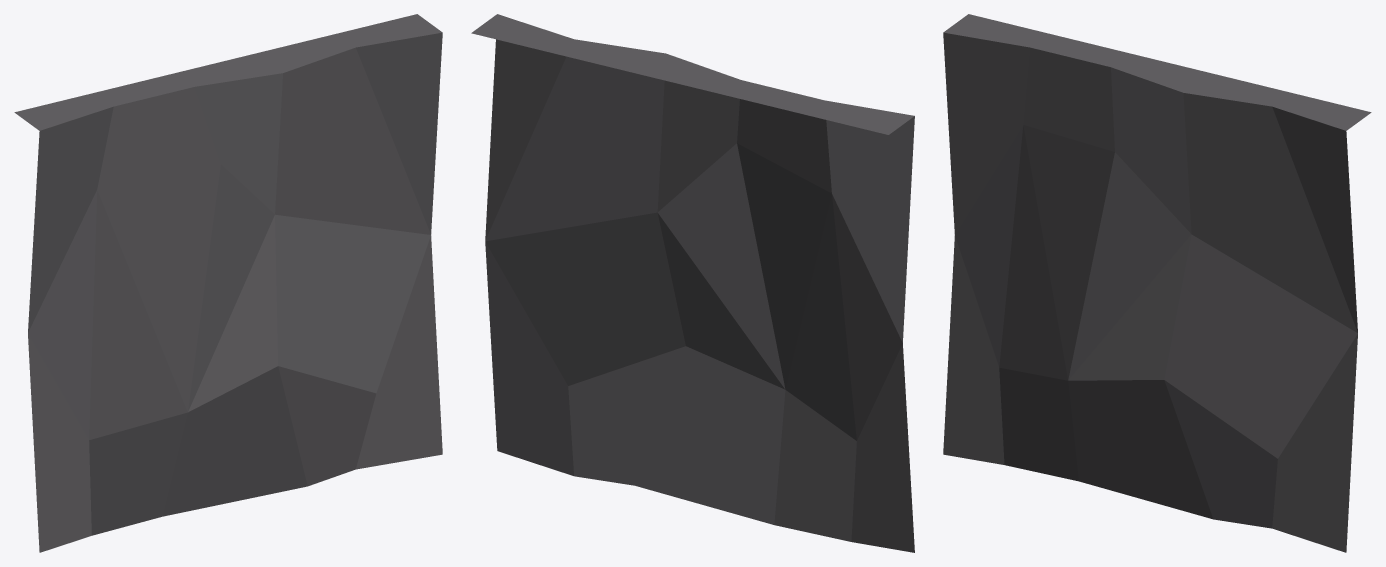
File: mesh_nature_cliff_bottom_02_01.fbx
3 views of the same model, side by side, from view 1: azimuth 30°, elevation 25°; view 2: azimuth 150°, elevation 25°; view 3: azimuth 330°, elevation 25° (orthographic). The views are drawn at different scales.
Visible parts, largest first — view 1: mesh_nature_cliff_bottom_02_01; view 2: mesh_nature_cliff_bottom_02_01; view 3: mesh_nature_cliff_bottom_02_01.
Boxes of the visible parts, <box> form: mesh_nature_cliff_bottom_02_01: <box>14,14,442,552</box>; mesh_nature_cliff_bottom_02_01: <box>471,14,914,552</box>; mesh_nature_cliff_bottom_02_01: <box>943,14,1371,552</box>.
Bounding box in the file's own units: 200 × 200 × 31.83.
